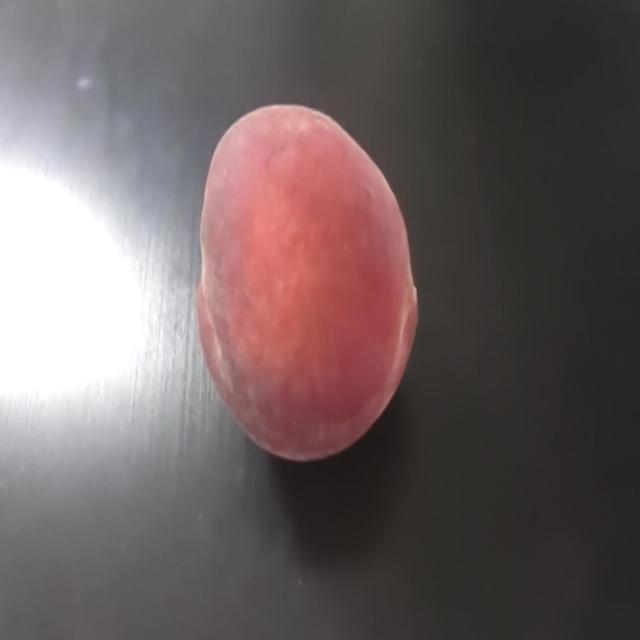Apel Gala: (173, 80, 439, 491)
